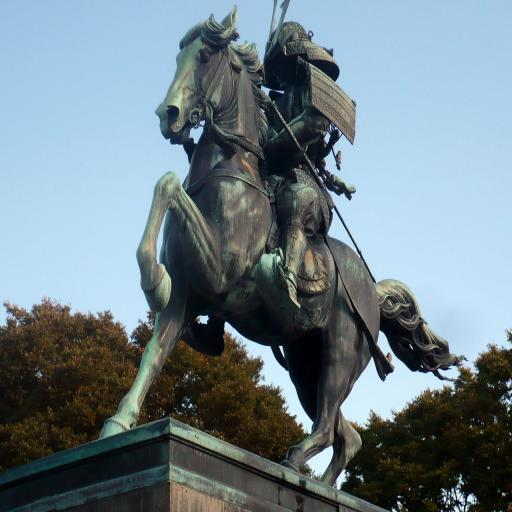horse: (94, 4, 469, 486)
